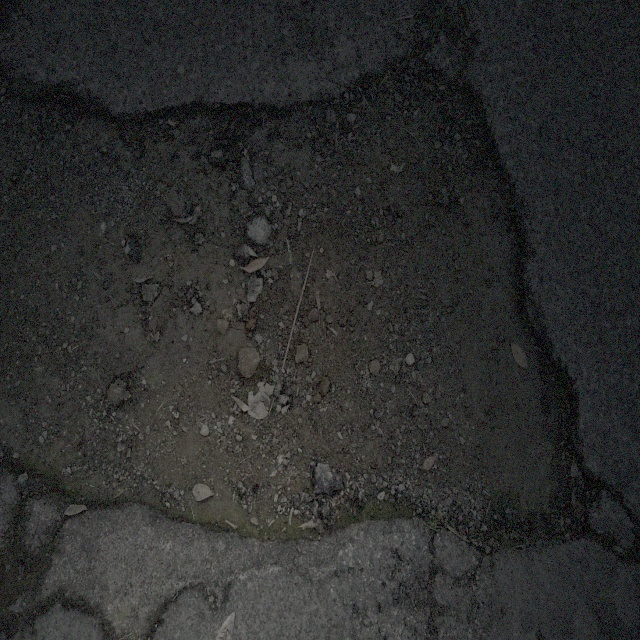pothole: (19, 33, 608, 564)
